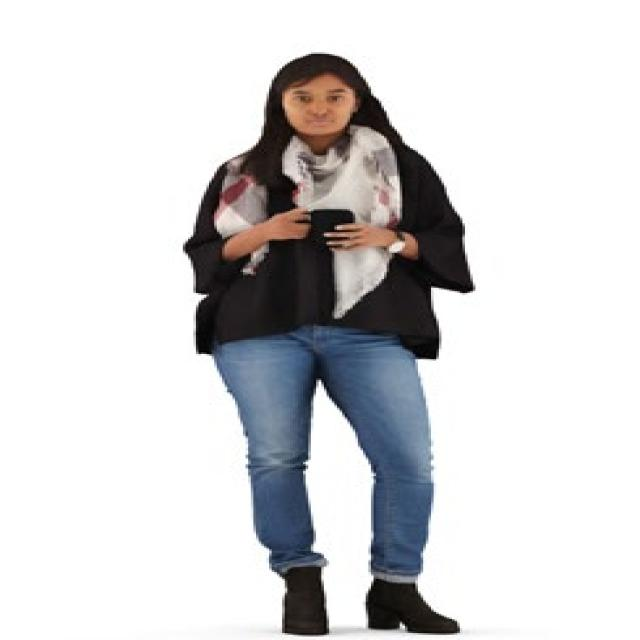standing: (183, 52, 472, 638)
